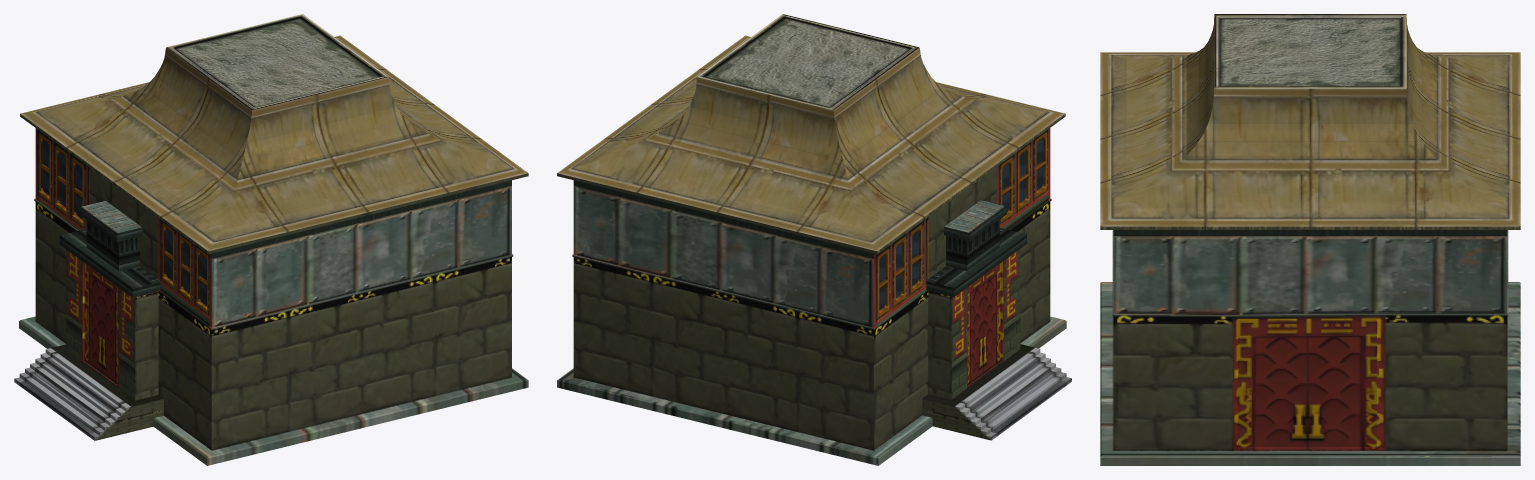
Rendered from l_residencecore_cad.glb.
3 views of the same model, side by side, from view 1: azimuth 30°, elevation 25°; view 2: azimuth 150°, elevation 25°; view 3: azimuth 270°, elevation 25° (orthographic). The views are drawn at different scales.
Parts seen in each view (by area): view 1: Residence_Core; view 2: Residence_Core; view 3: Residence_Core.
Part boxes in pixels (bbox=[...]): Residence_Core: bbox=[14, 14, 528, 465]; Residence_Core: bbox=[557, 14, 1071, 465]; Residence_Core: bbox=[1100, 14, 1520, 465].
Size of the model in its own units: 27.09 by 20.07 by 23.23.
Materials: 1 (1 with a texture image).
